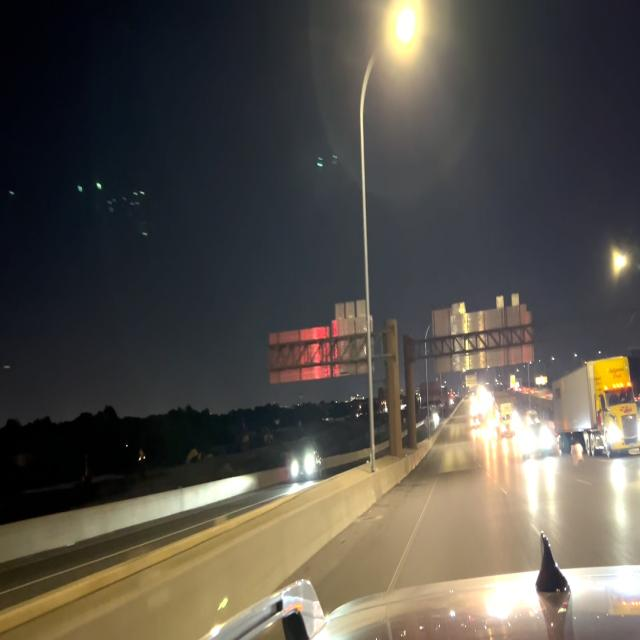back-of-sign: (267, 299, 374, 387), (430, 293, 535, 376)
